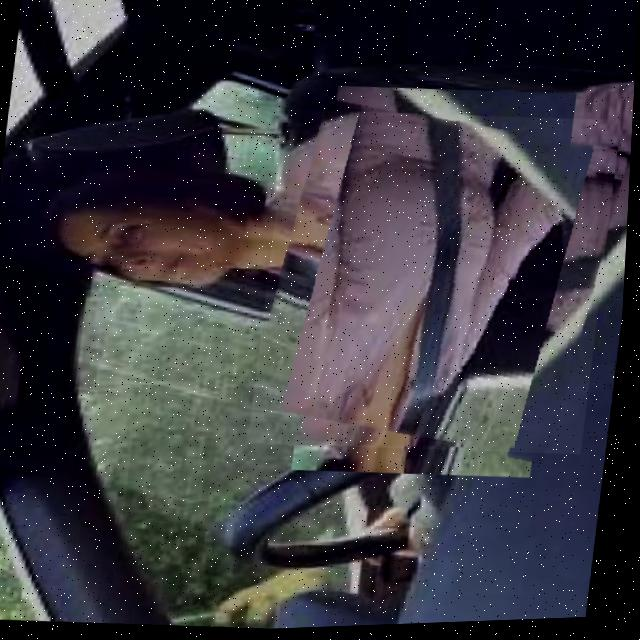seatbelt: (252, 100, 623, 468)
